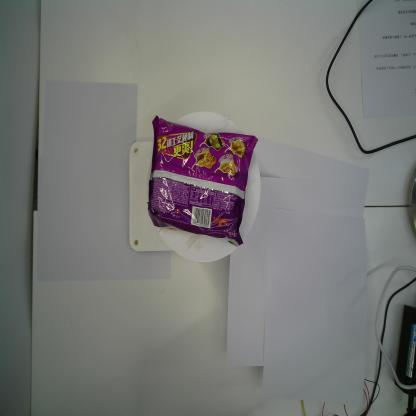Instant Noodles: (146, 115, 260, 248)
